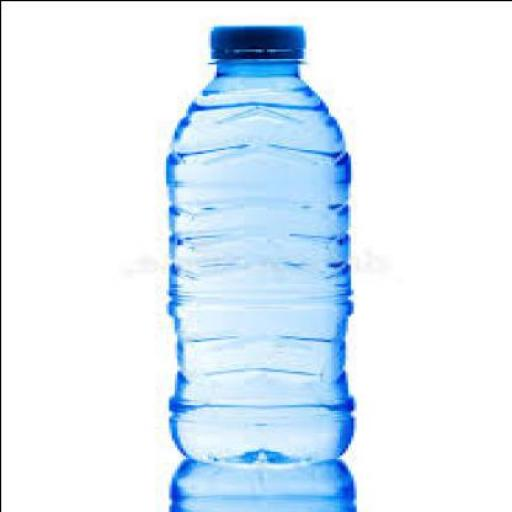plastic: (173, 24, 353, 463), (212, 22, 308, 62)
